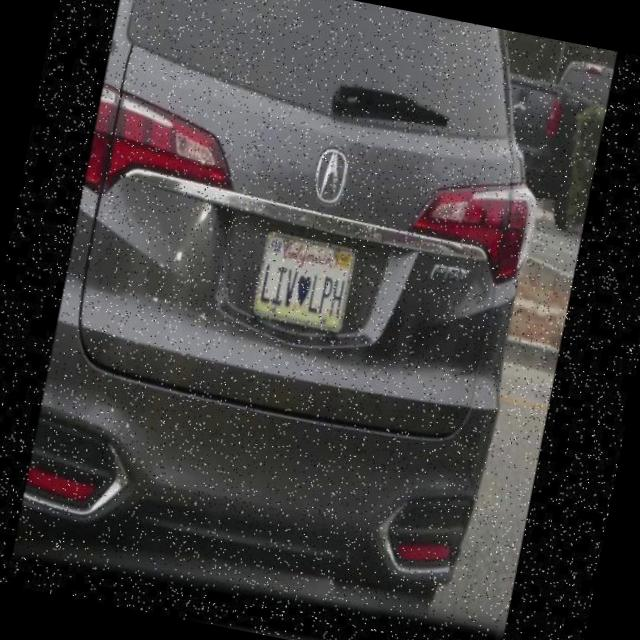LicensePlate: (249, 211, 365, 338)
